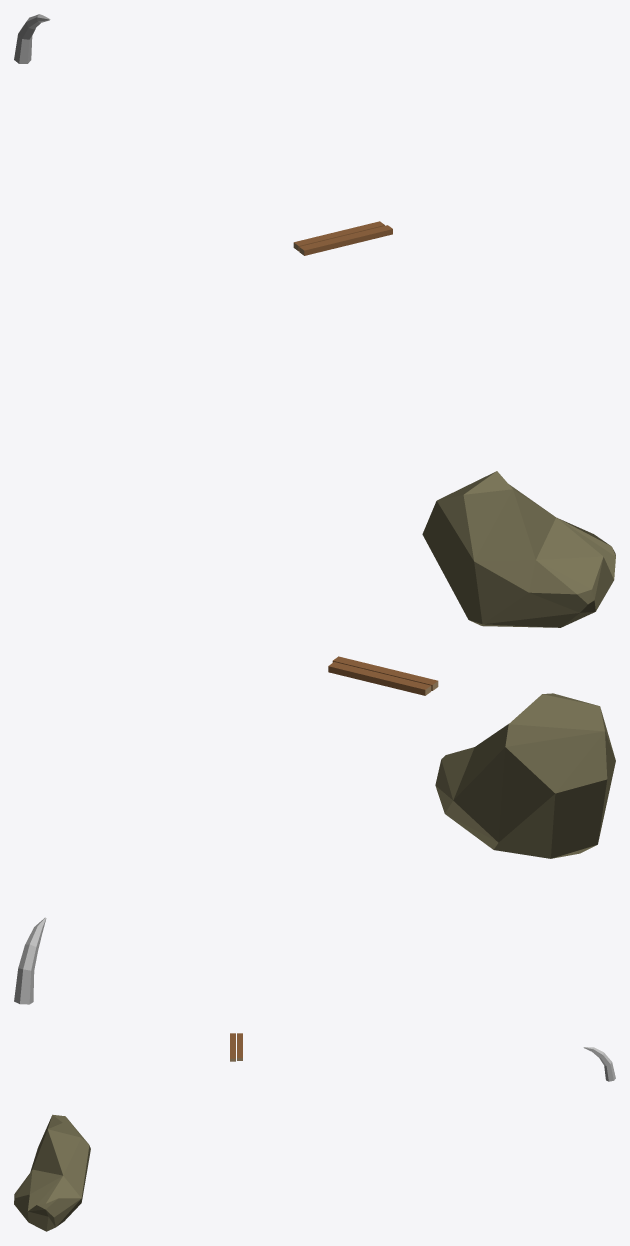
The picture shows the model from 3 angles, top to bottom: view 1: azimuth 30°, elevation 25°; view 2: azimuth 150°, elevation 25°; view 3: azimuth 270°, elevation 25°; orthographic projection. The views are drawn at different scales.
Visible parts, largest first — view 1: Box15767_rock2_0, Object230_brown_0, Line1332_grey_0; view 2: Box15767_rock2_0, Object230_brown_0, Line1332_grey_0; view 3: Box15767_rock2_0, Line1332_grey_0, Object230_brown_0.
Part boxes in pixels (<box>): Box15767_rock2_0: <box>422,471,615,627</box>; Object230_brown_0: <box>294,221,392,255</box>; Line1332_grey_0: <box>14,14,50,63</box>; Box15767_rock2_0: <box>435,693,615,858</box>; Object230_brown_0: <box>328,656,437,695</box>; Line1332_grey_0: <box>14,917,46,1004</box>; Box15767_rock2_0: <box>14,1114,90,1231</box>; Line1332_grey_0: <box>583,1047,615,1081</box>; Object230_brown_0: <box>230,1033,242,1058</box>.
Bounding box in the file's own units: 899 × 1400 × 4700.
